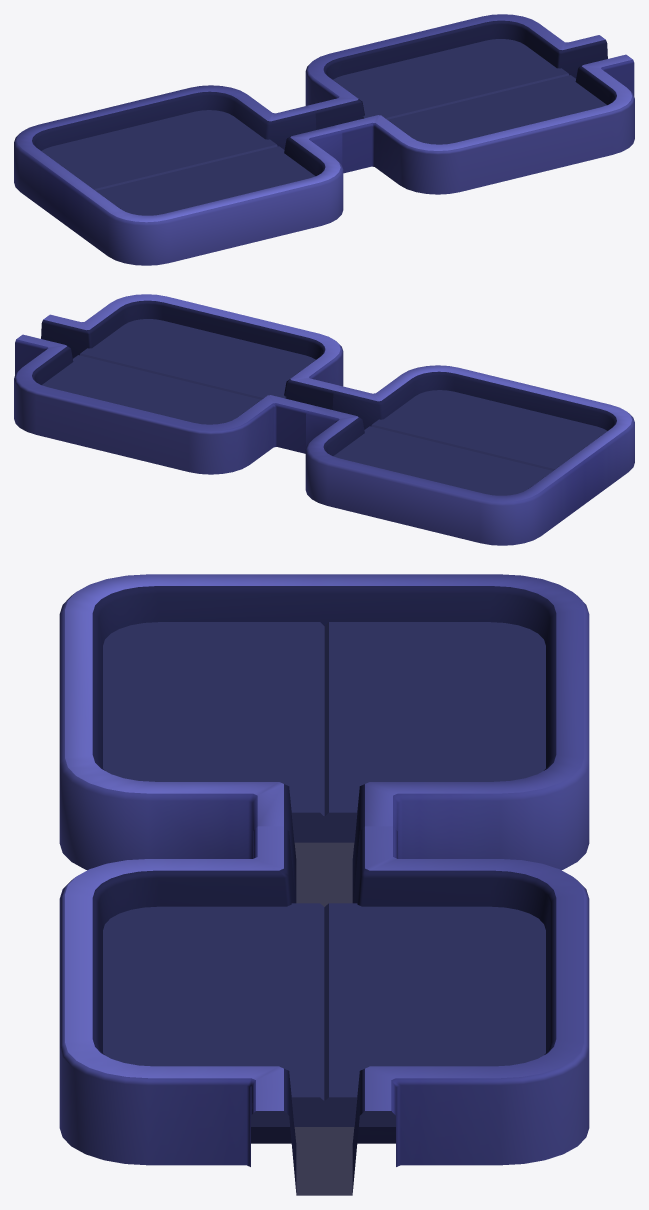
The model's file is Waiting_line.fbx.
The picture shows the model from 3 angles, top to bottom: view 1: azimuth 30°, elevation 25°; view 2: azimuth 150°, elevation 25°; view 3: azimuth 270°, elevation 25°; orthographic projection. The views are drawn at different scales.
Parts seen in each view (by area): view 1: Waiting_line, Cube.009, Cube.010, Cube.008, Cube.011; view 2: Waiting_line, Cube.008, Cube.011, Cube.009, Cube.010; view 3: Waiting_line, Cube.008, Cube.009, Cube.011, Cube.010.
Boxes of the visible parts, x1=… form: Waiting_line: x1=14, y1=14, x2=634, y2=265; Cube.009: x1=333, y1=39, x2=568, y2=119; Cube.010: x1=41, y1=110, x2=277, y2=190; Cube.008: x1=387, y1=75, x2=606, y2=144; Cube.011: x1=96, y1=146, x2=315, y2=215; Waiting_line: x1=14, y1=294, x2=634, y2=545; Cube.008: x1=80, y1=319, x2=315, y2=399; Cube.011: x1=371, y1=390, x2=607, y2=470; Cube.009: x1=42, y1=355, x2=261, y2=424; Cube.010: x1=333, y1=426, x2=552, y2=495; Waiting_line: x1=59, y1=574, x2=589, y2=1195; Cube.008: x1=103, y1=903, x2=324, y2=1126; Cube.009: x1=324, y1=903, x2=545, y2=1126; Cube.011: x1=103, y1=622, x2=324, y2=842; Cube.010: x1=324, y1=622, x2=545, y2=842.
Size of the model in its own units: 14.44 by 1.06 by 6.
